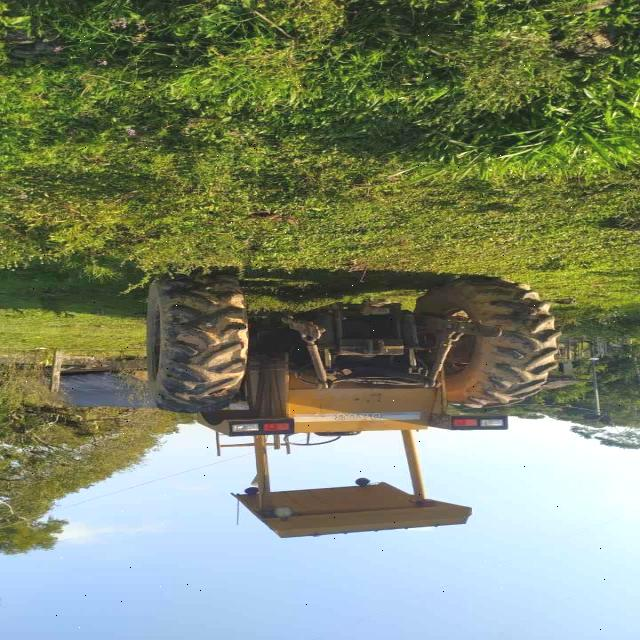Tratores - v5 YOLO V8L 2024-11-13: (154, 270, 563, 542)
